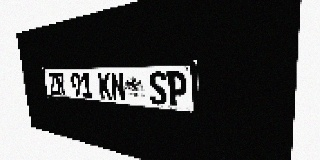1: (80, 72, 93, 98)
9: (70, 73, 82, 97)
K: (98, 72, 112, 100)
N: (110, 72, 126, 101)
P: (167, 71, 188, 107)
R: (55, 73, 66, 96)
S: (148, 71, 167, 105)
Z: (48, 73, 58, 95)
